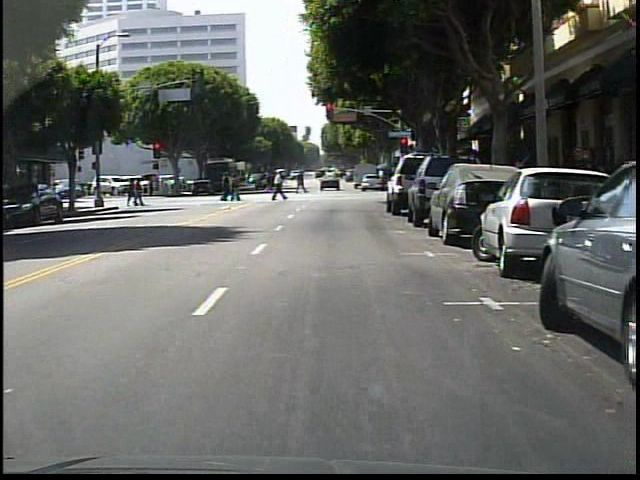person: (267, 167, 289, 206), (291, 168, 309, 197)
